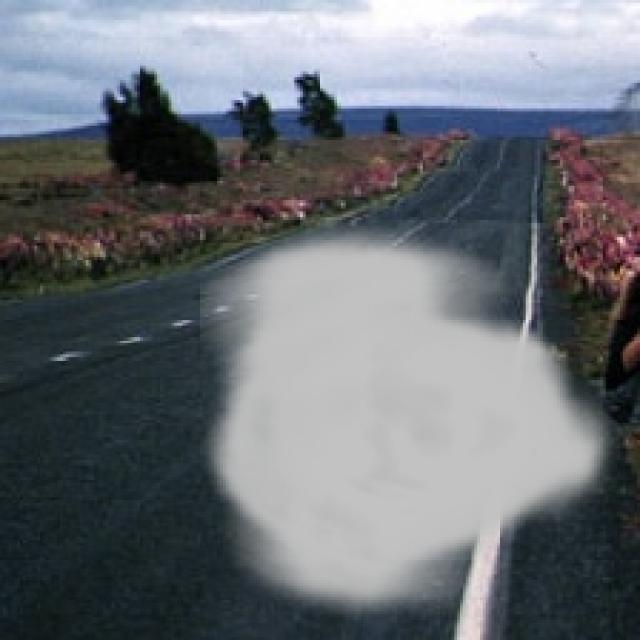Smoke: (200, 225, 620, 626)
